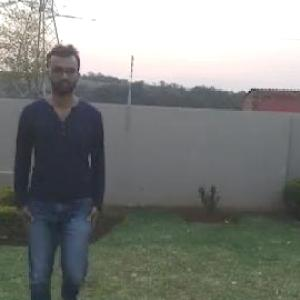follow: (16, 40, 106, 299)
